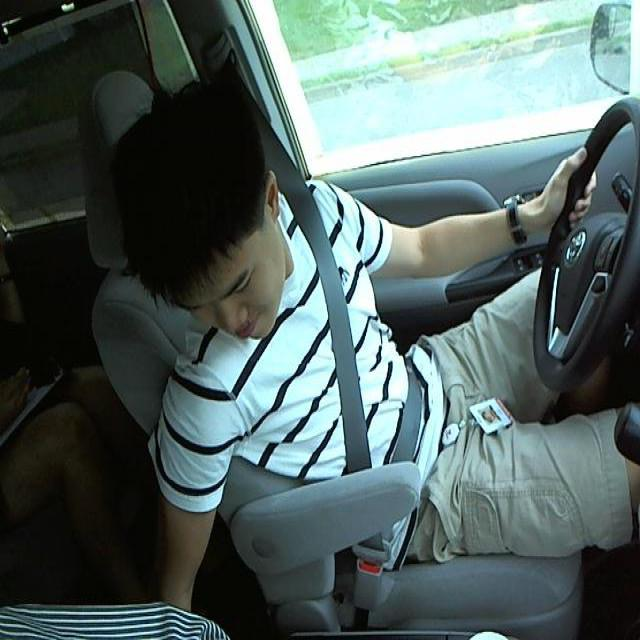seatbelt: (306, 226, 377, 478)
